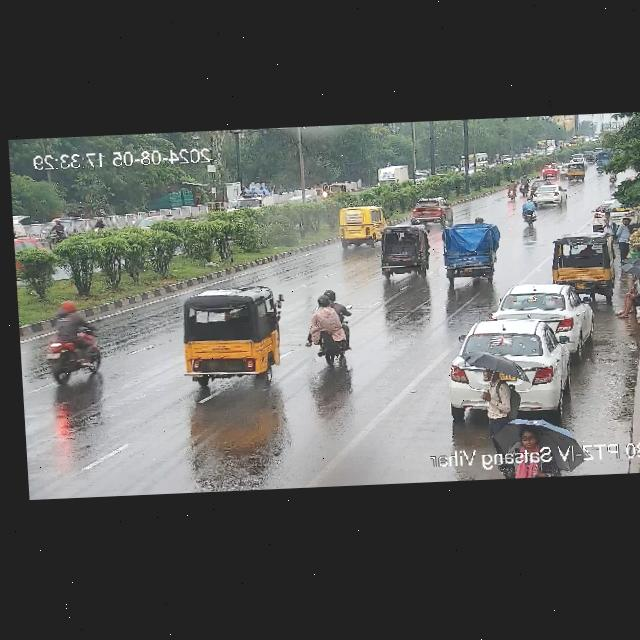bus: (460, 152, 489, 173)
car: (444, 321, 570, 416), (166, 292, 285, 390), (496, 283, 594, 345), (549, 234, 615, 296), (438, 223, 498, 281), (377, 225, 429, 276), (334, 205, 385, 247), (590, 200, 640, 225), (407, 198, 452, 223), (529, 183, 567, 205), (220, 198, 267, 214), (562, 162, 588, 184), (542, 163, 562, 179)
motorcycle: (42, 311, 112, 380), (305, 293, 355, 366), (36, 215, 67, 244), (518, 198, 540, 226), (516, 175, 531, 196), (503, 179, 518, 199)
person: (474, 367, 519, 441), (512, 429, 554, 470), (618, 272, 640, 317), (598, 210, 617, 236)
truck: (373, 165, 410, 189)
